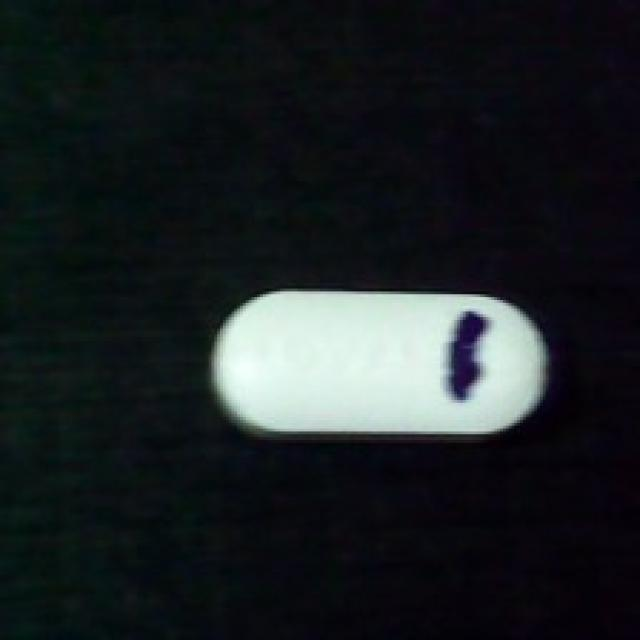defected: (206, 283, 554, 446)
